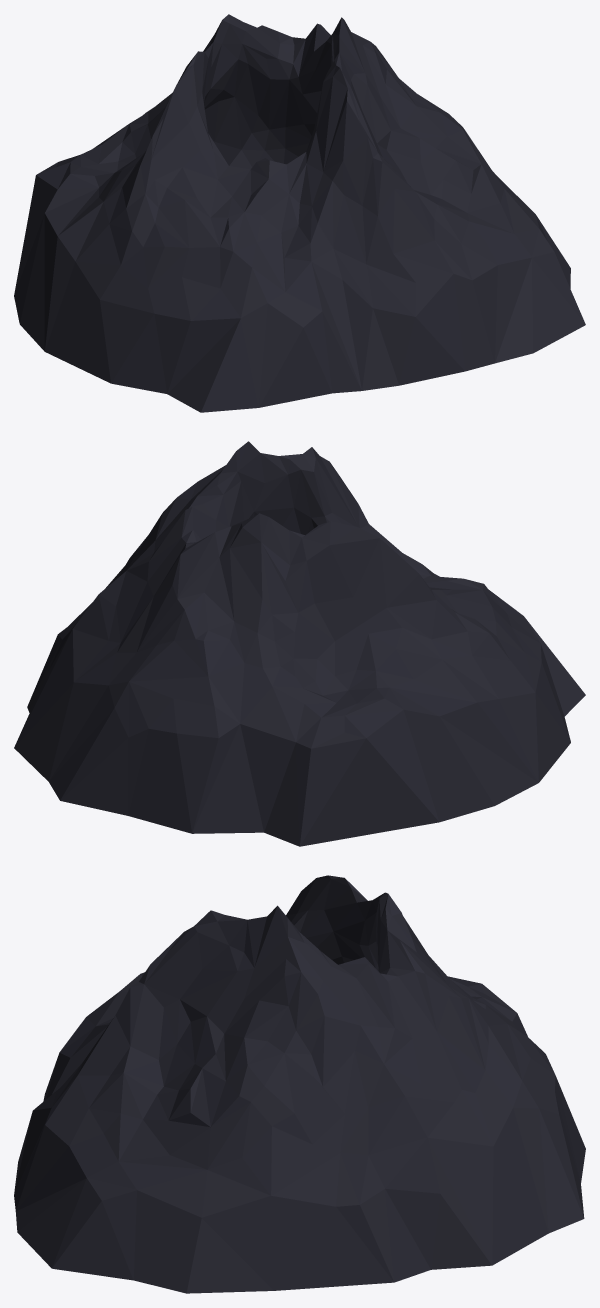
Rendered from NC_Mountain.fbx.
The picture shows the model from 3 angles, top to bottom: view 1: azimuth 30°, elevation 25°; view 2: azimuth 150°, elevation 25°; view 3: azimuth 270°, elevation 25°; orthographic projection. The views are drawn at different scales.
Parts seen in each view (by area): view 1: NC_Mountain; view 2: NC_Mountain; view 3: NC_Mountain.
Part boxes in pixels (x1,y1,x2,y2): NC_Mountain: (14, 14, 585, 412); NC_Mountain: (14, 441, 585, 846); NC_Mountain: (14, 875, 585, 1293).
Bounding box in the file's own units: 539 × 285 × 512.
1 material, 1 textured.
